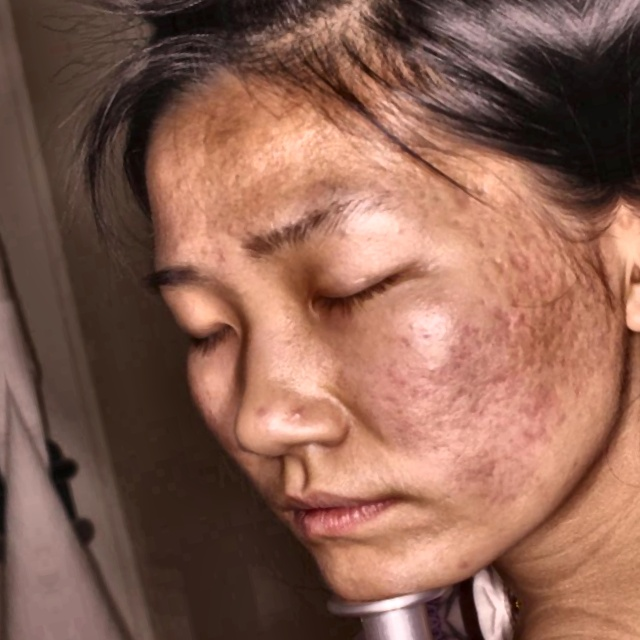comedone: (453, 547, 493, 577), (284, 399, 314, 426), (245, 399, 274, 422)
